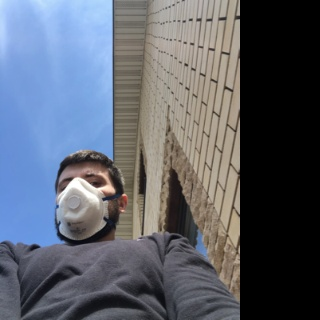with_mask: (54, 170, 115, 244)
